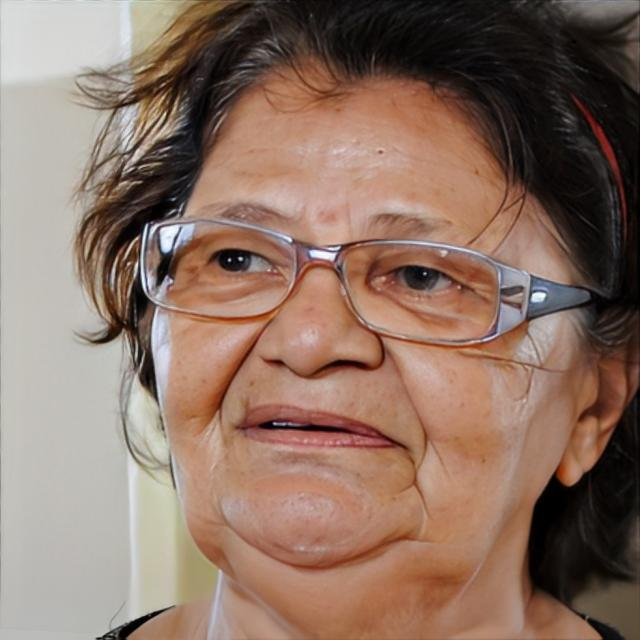sad: (147, 58, 562, 570)
